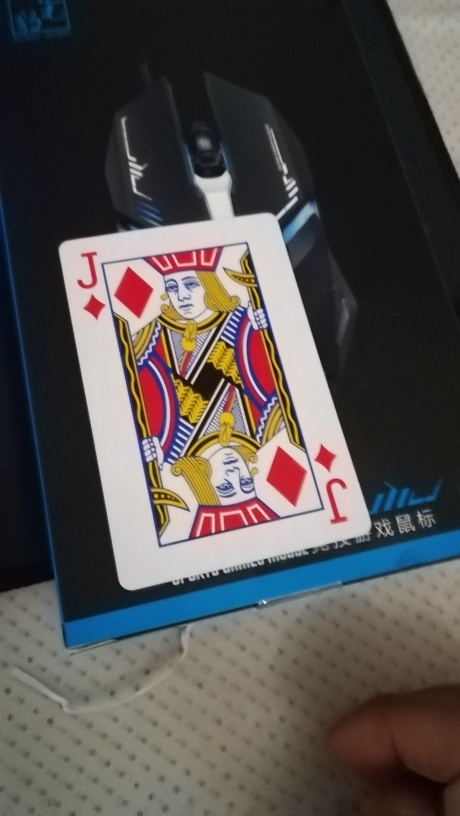fk j: (59, 208, 372, 593)
